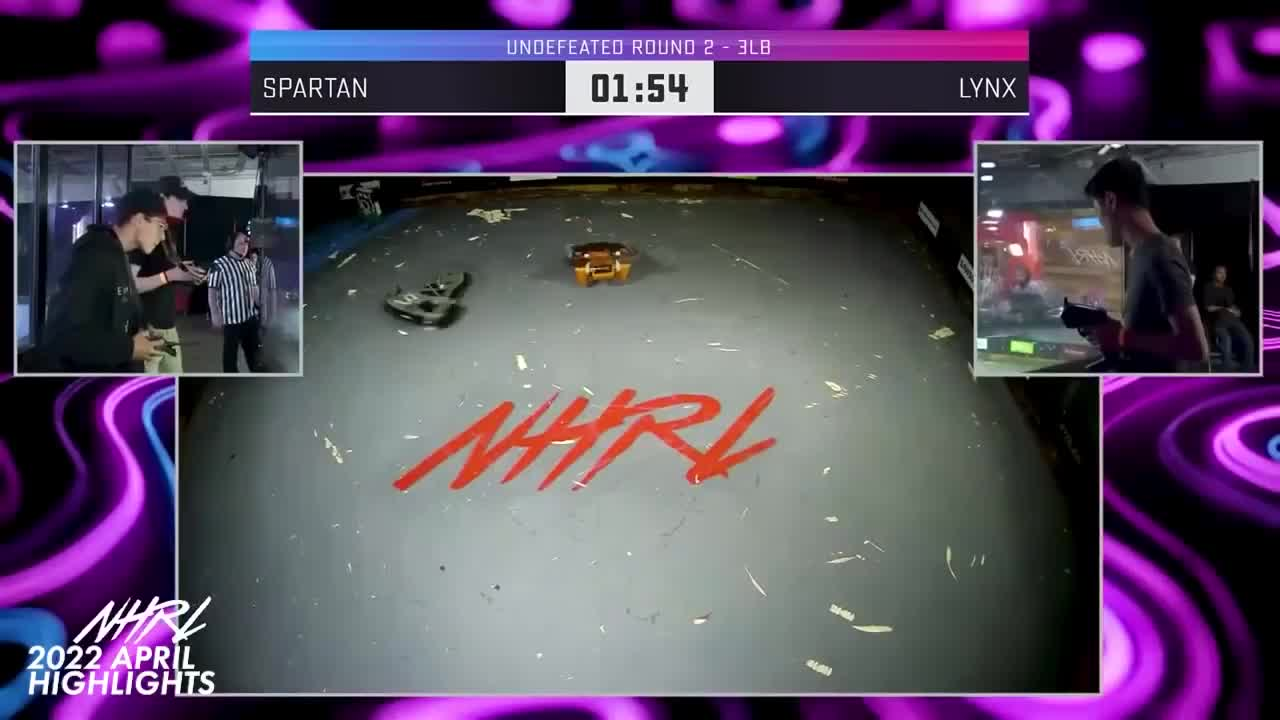combatbot: (383, 269, 473, 328), (565, 242, 640, 286), (465, 205, 529, 224)
debris: (926, 322, 962, 343)
